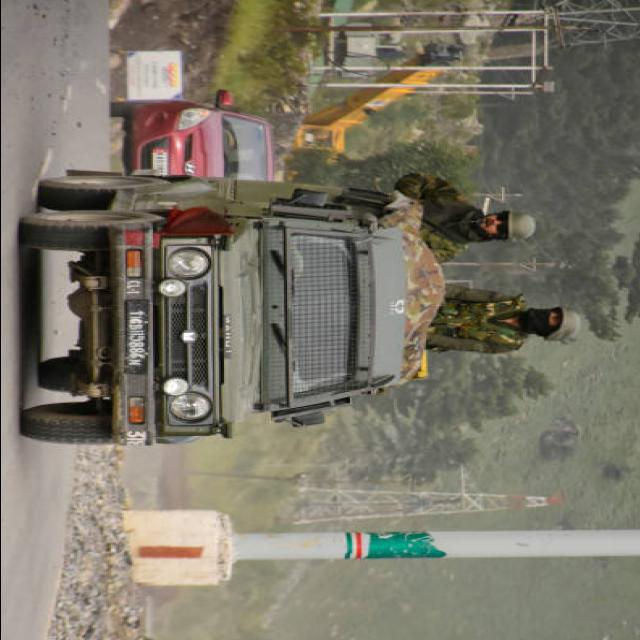LMV: (21, 170, 443, 446), (112, 91, 273, 179)
civilian: (21, 170, 443, 446)
soldier: (396, 174, 535, 261), (427, 286, 579, 353)
